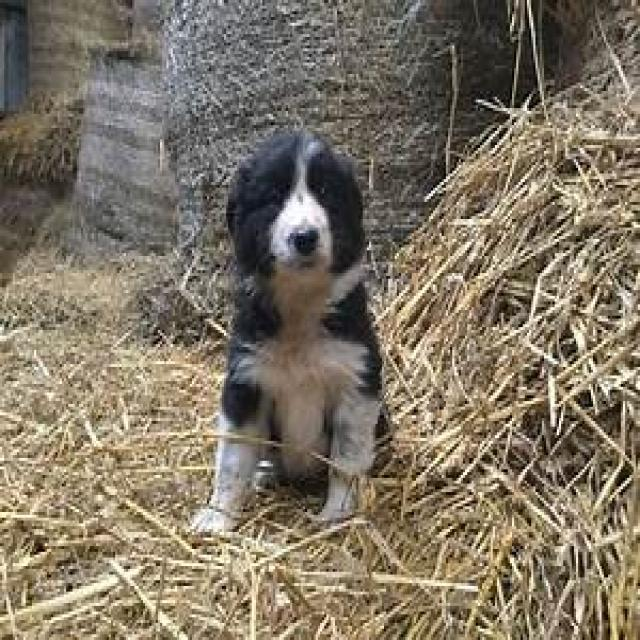dog: (191, 138, 381, 533)
